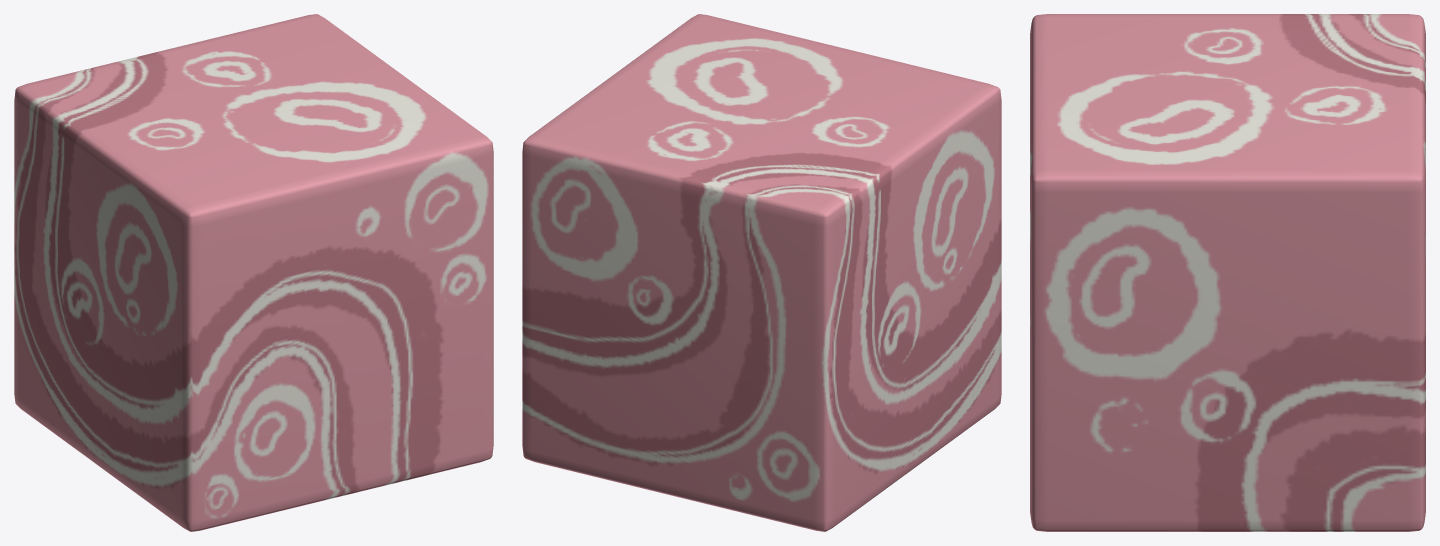
File: SM_Soap.fbx
3 renders of one model, left to right at view 1: azimuth 30°, elevation 25°; view 2: azimuth 150°, elevation 25°; view 3: azimuth 270°, elevation 25°, orthographic. The views are drawn at different scales.
Visible parts, largest first — view 1: Soap; view 2: Soap; view 3: Soap.
Part boxes in pixels (<box>): Soap: <box>14,14,493,531</box>; Soap: <box>522,14,1001,531</box>; Soap: <box>1030,14,1425,531</box>.
Size of the model in its own units: 100 by 100 by 100.
